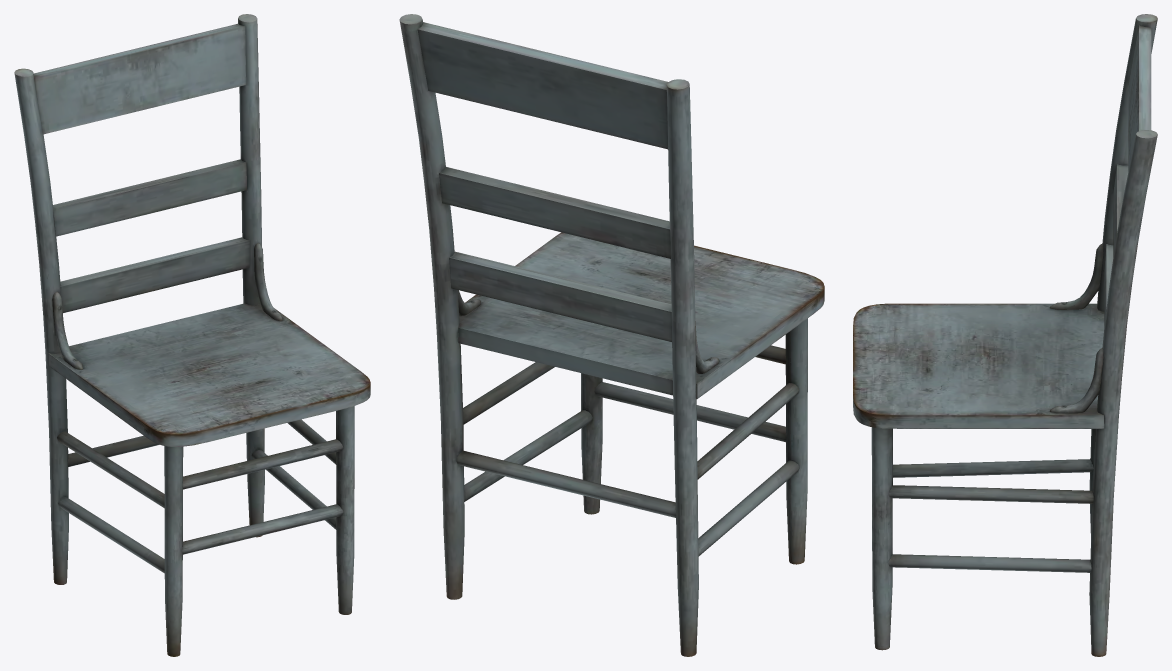
File: painted_wooden_chair_02.glb
The picture shows the model from 3 angles, left to right: view 1: azimuth 30°, elevation 25°; view 2: azimuth 150°, elevation 25°; view 3: azimuth 270°, elevation 25°; orthographic projection. The views are drawn at different scales.
Parts seen in each view (by area): view 1: painted_wooden_chair_02; view 2: painted_wooden_chair_02; view 3: painted_wooden_chair_02.
Part boxes in pixels (x1,y1,x2,y2): painted_wooden_chair_02: (14, 14, 370, 656); painted_wooden_chair_02: (399, 14, 824, 656); painted_wooden_chair_02: (853, 14, 1157, 656).
Size of the model in its own units: 0.6394 by 1.26 by 0.6621.
1 material, 1 textured.
